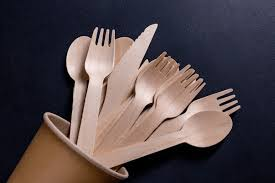Wooden Utensils: (52, 20, 229, 155)
